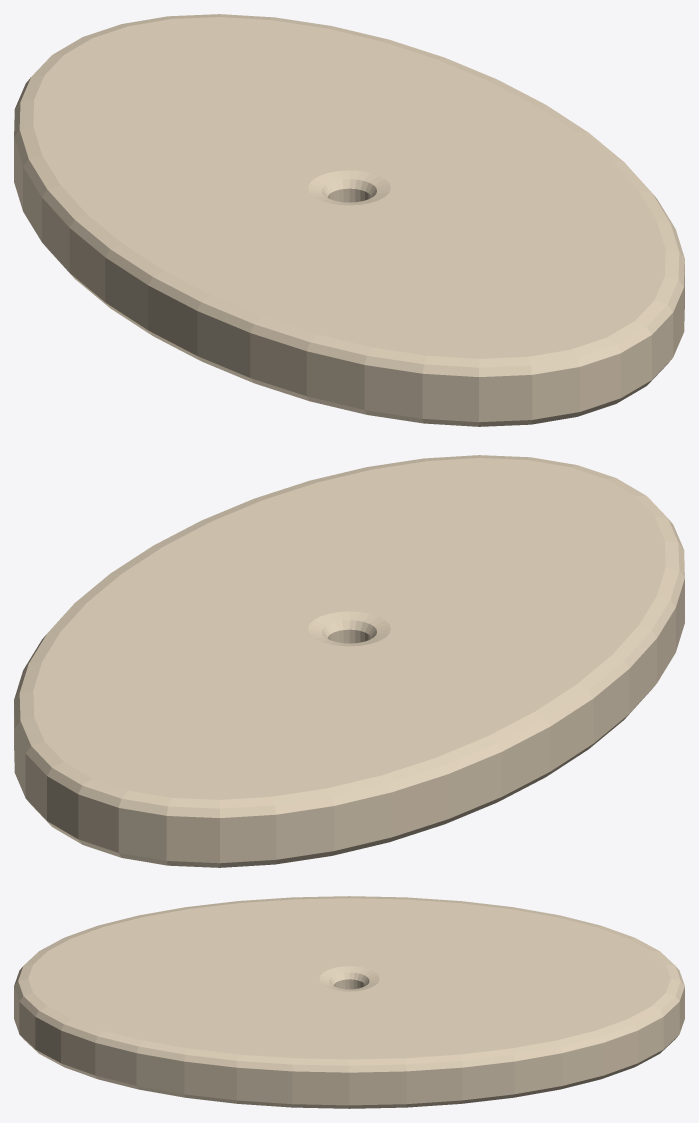
File: oval-rib-v2.glb
3 renders of one model, top to bottom at view 1: azimuth 30°, elevation 25°; view 2: azimuth 150°, elevation 25°; view 3: azimuth 270°, elevation 25°, orthographic. The views are drawn at different scales.
Visible parts, largest first — view 1: Oval shaping rib; view 2: Oval shaping rib; view 3: Oval shaping rib.
Boxes of the visible parts, left/top/right/bottom form: Oval shaping rib: left=14, top=14, right=684, bottom=426; Oval shaping rib: left=14, top=455, right=684, bottom=867; Oval shaping rib: left=14, top=896, right=684, bottom=1108.
Size of the model in its own units: 0.204 by 0.026 by 0.3342.
